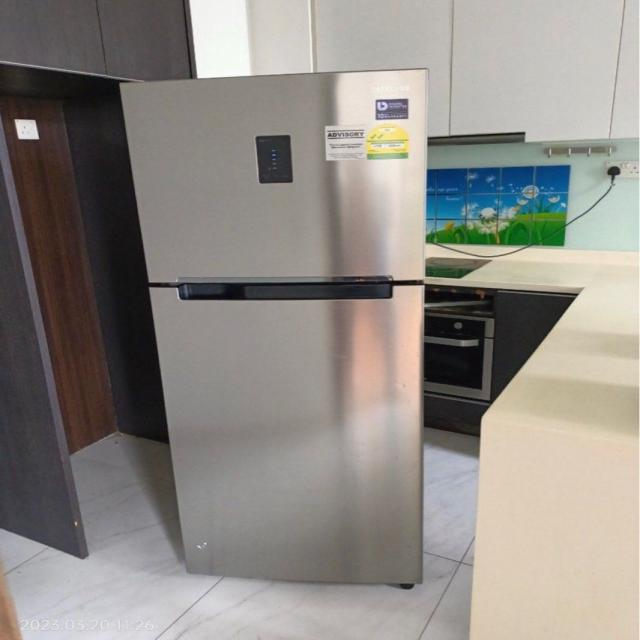refrigerator: (120, 66, 430, 588)
